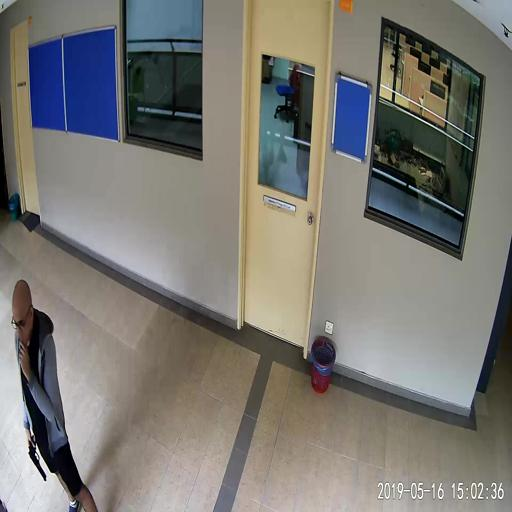pistol: (28, 442, 45, 479)
